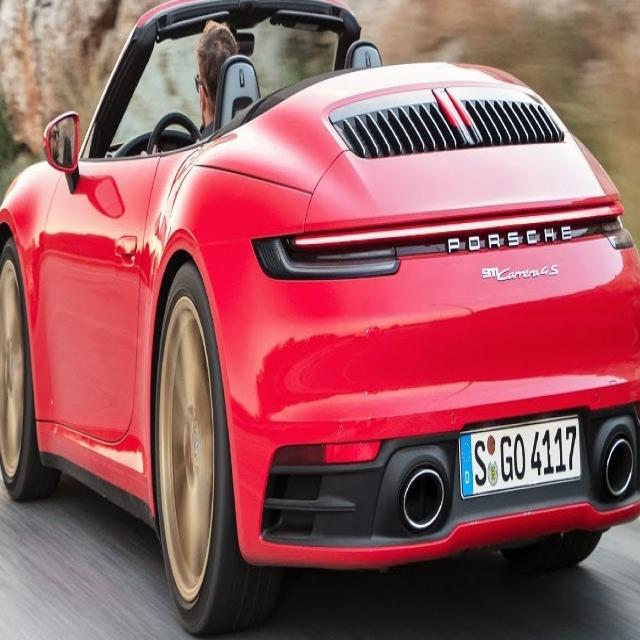red: (0, 6, 640, 572)
